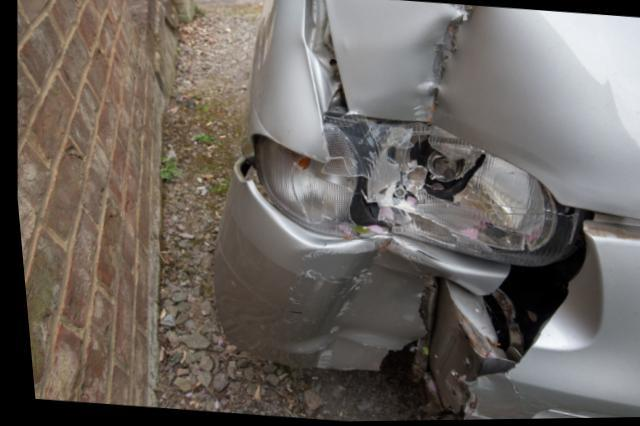crack: (369, 271, 564, 422)
dent: (333, 0, 513, 148), (280, 240, 425, 372)
lamp broken: (251, 112, 555, 268)
